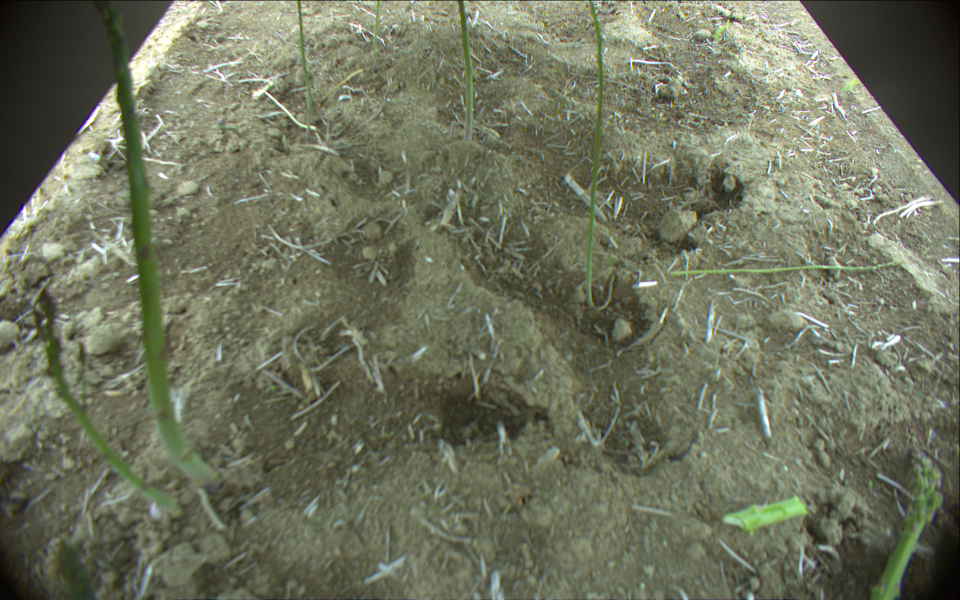aspa: (90, 1, 224, 492), (39, 295, 178, 511), (869, 445, 940, 600), (583, 1, 607, 305), (667, 257, 903, 277), (451, 1, 479, 143), (724, 495, 807, 531), (293, 1, 312, 144), (370, 1, 384, 61)
